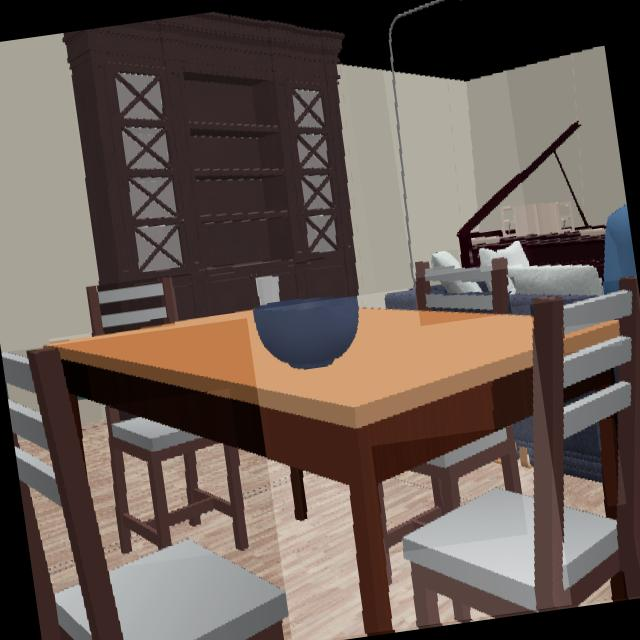bookshelf: (65, 14, 357, 319)
chair: (2, 348, 288, 640), (405, 278, 640, 627), (108, 407, 250, 552), (382, 427, 522, 553), (416, 260, 508, 314), (87, 280, 174, 336)
lamp: (391, 0, 448, 278)
pillow: (508, 265, 602, 295), (479, 242, 529, 268), (442, 281, 481, 293), (432, 252, 459, 268), (510, 278, 516, 292)
table: (51, 310, 534, 632), (565, 322, 620, 353), (603, 418, 617, 505)
